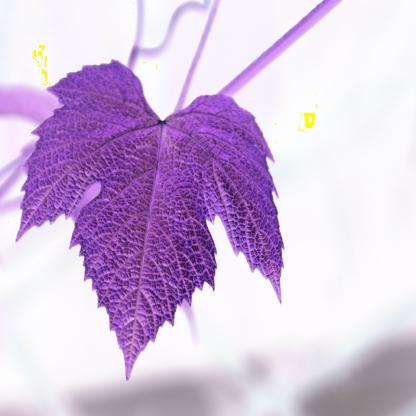grape leaf: (11, 62, 296, 383)
